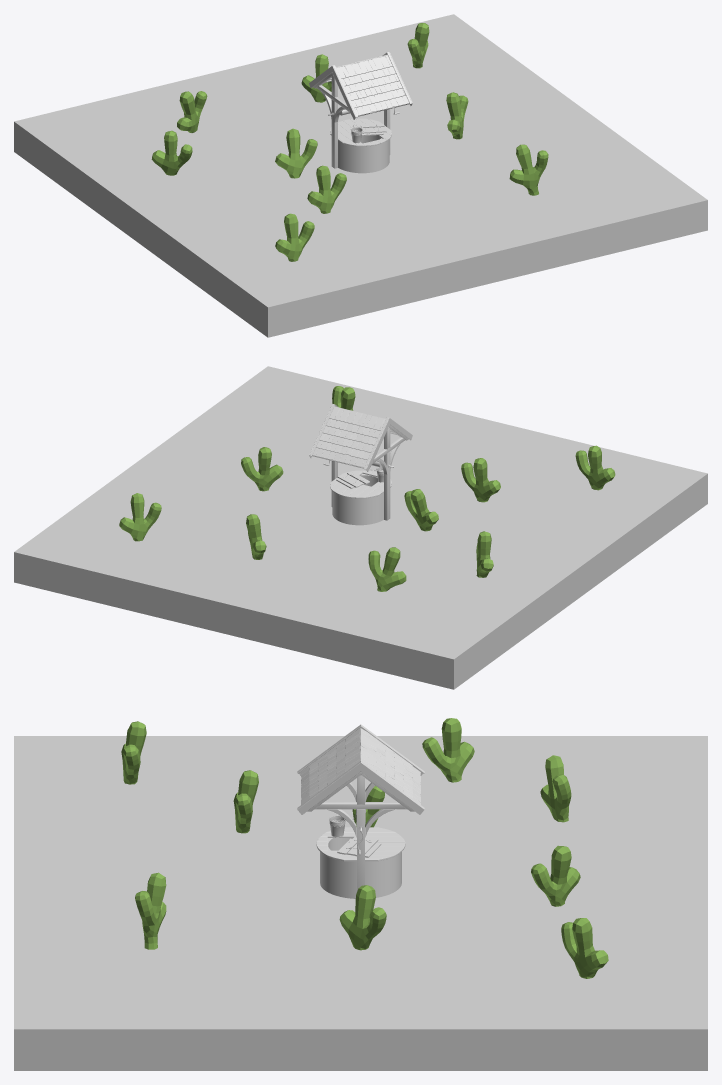
Rendered from Diorama 1.fbx.
The picture shows the model from 3 angles, top to bottom: view 1: azimuth 30°, elevation 25°; view 2: azimuth 150°, elevation 25°; view 3: azimuth 270°, elevation 25°; orthographic projection. The views are drawn at different scales.
Parts seen in each view (by area): view 1: Plano, Cube.076, Circle, Low Poly stylized cactus.002, Low Poly stylized cactus.004, Low Poly stylized cactus, Low Poly stylized cactus.003, Cube.003, Low Poly stylized cactus.001, Low Poly stylized cactus.006, Circle.003, Low Poly stylized cactus.008 (+3 smaller); view 2: Plano, Cube.076, Circle, Low Poly stylized cactus.006, Low Poly stylized cactus.007, Cube.003, Low Poly stylized cactus.003, Low Poly stylized cactus, Low Poly stylized cactus.008, Circle.003, Low Poly stylized cactus.004, Cube.002 (+2 smaller); view 3: Plano, Cube.076, Circle, Cube.002, Cube.003, Low Poly stylized cactus.001, Low Poly stylized cactus.008, Low Poly stylized cactus.005, Low Poly stylized cactus.007, Low Poly stylized cactus.002, Circle.003, Low Poly stylized cactus.006 (+3 smaller).
Part boxes in pixels (<box>): Plano: <box>14,14,707,337</box>; Cube.076: <box>336,54,409,115</box>; Circle: <box>338,135,389,173</box>; Low Poly stylized cactus.002: <box>509,144,548,195</box>; Low Poly stylized cactus.004: <box>275,128,317,178</box>; Low Poly stylized cactus: <box>275,213,314,261</box>; Low Poly stylized cactus.003: <box>307,165,346,213</box>; Cube.003: <box>313,72,390,168</box>; Low Poly stylized cactus.001: <box>151,130,192,175</box>; Low Poly stylized cactus.006: <box>177,91,207,132</box>; Circle.003: <box>330,118,391,146</box>; Low Poly stylized cactus.008: <box>446,92,468,139</box>; Plano: <box>14,366,707,689</box>; Cube.076: <box>312,406,385,467</box>; Circle: <box>332,473,383,525</box>; Low Poly stylized cactus.006: <box>368,547,406,591</box>; Low Poly stylized cactus.007: <box>119,493,161,541</box>; Cube.003: <box>331,424,408,520</box>; Low Poly stylized cactus.003: <box>461,458,500,502</box>; Low Poly stylized cactus: <box>575,445,615,490</box>; Low Poly stylized cactus.008: <box>241,447,283,491</box>; Circle.003: <box>330,470,391,498</box>; Low Poly stylized cactus.004: <box>404,489,438,531</box>; Cube.002: <box>309,404,412,471</box>; Plano: <box>14,736,707,1070</box>; Cube.076: <box>301,728,420,804</box>; Circle: <box>320,838,401,898</box>; Cube.002: <box>297,724,424,814</box>; Cube.003: <box>307,772,414,891</box>; Low Poly stylized cactus.001: <box>422,718,474,782</box>; Low Poly stylized cactus.008: <box>339,885,386,950</box>; Low Poly stylized cactus.005: <box>531,845,580,906</box>; Low Poly stylized cactus.007: <box>561,918,608,978</box>; Low Poly stylized cactus.002: <box>135,872,166,949</box>; Circle.003: <box>316,827,405,861</box>; Low Poly stylized cactus.006: <box>540,755,571,822</box>.
Bounding box in the file's own units: 2640 × 759 × 2640.
